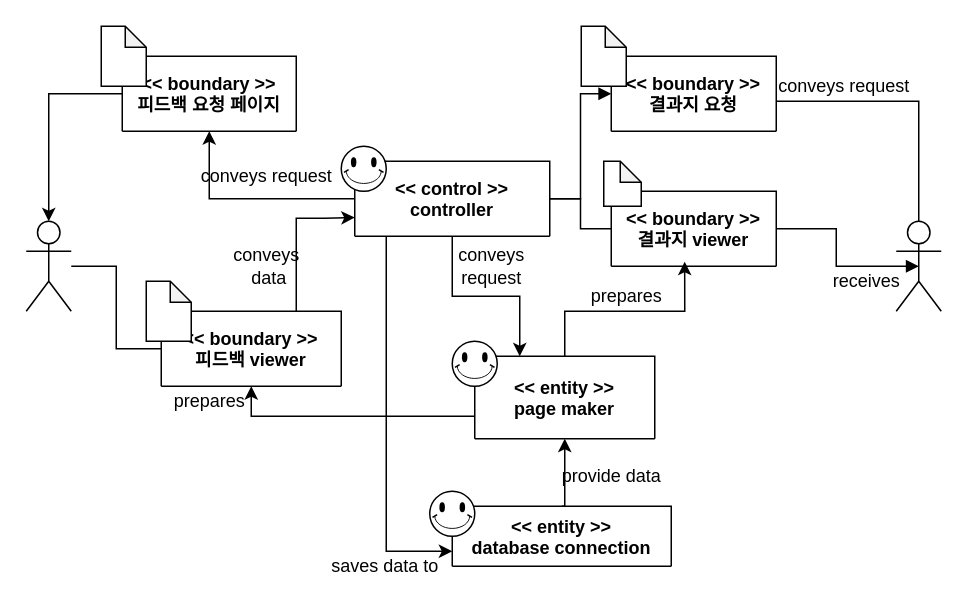
Some shapes in this 969 by 608 pixel diagram are drawn without their labels. The centre of each missing label's shape, as x and y in pixels:
관리자: pixel 918 265
의사: pixel 48 265
